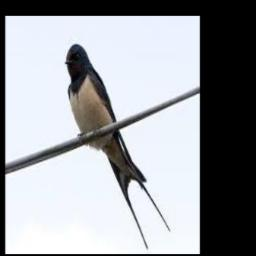Swallow: (65, 44, 170, 249)
